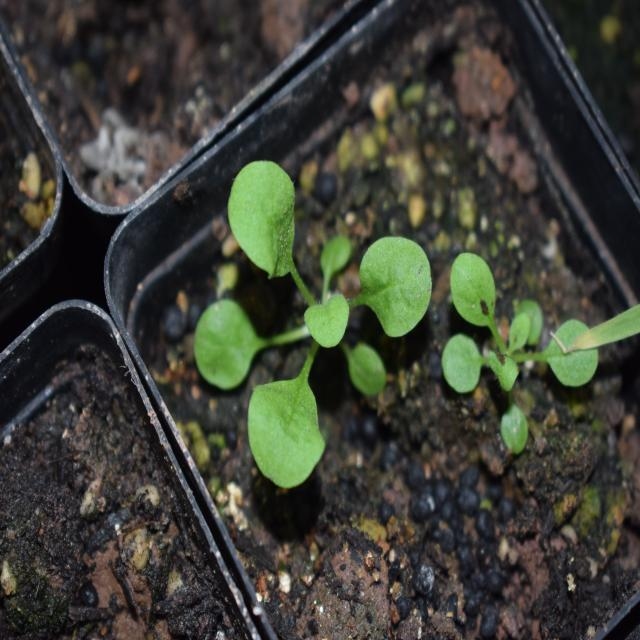Shepherd_Purse: (206, 164, 452, 530), (397, 200, 591, 450)
